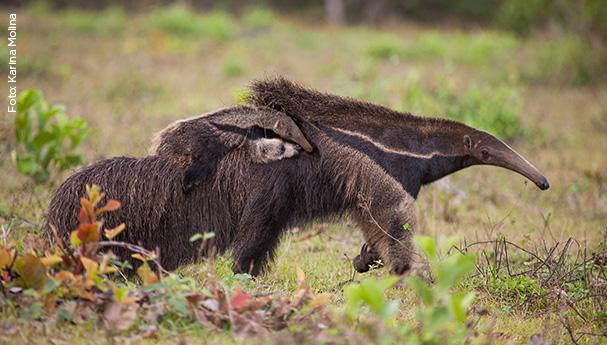TamanduaBandeira: (45, 82, 554, 291), (139, 104, 322, 195)
